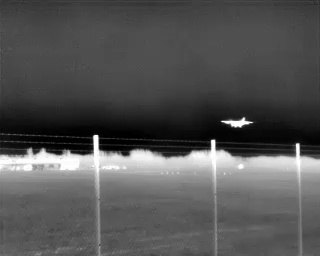AIRPLANE: (218, 114, 257, 130)
